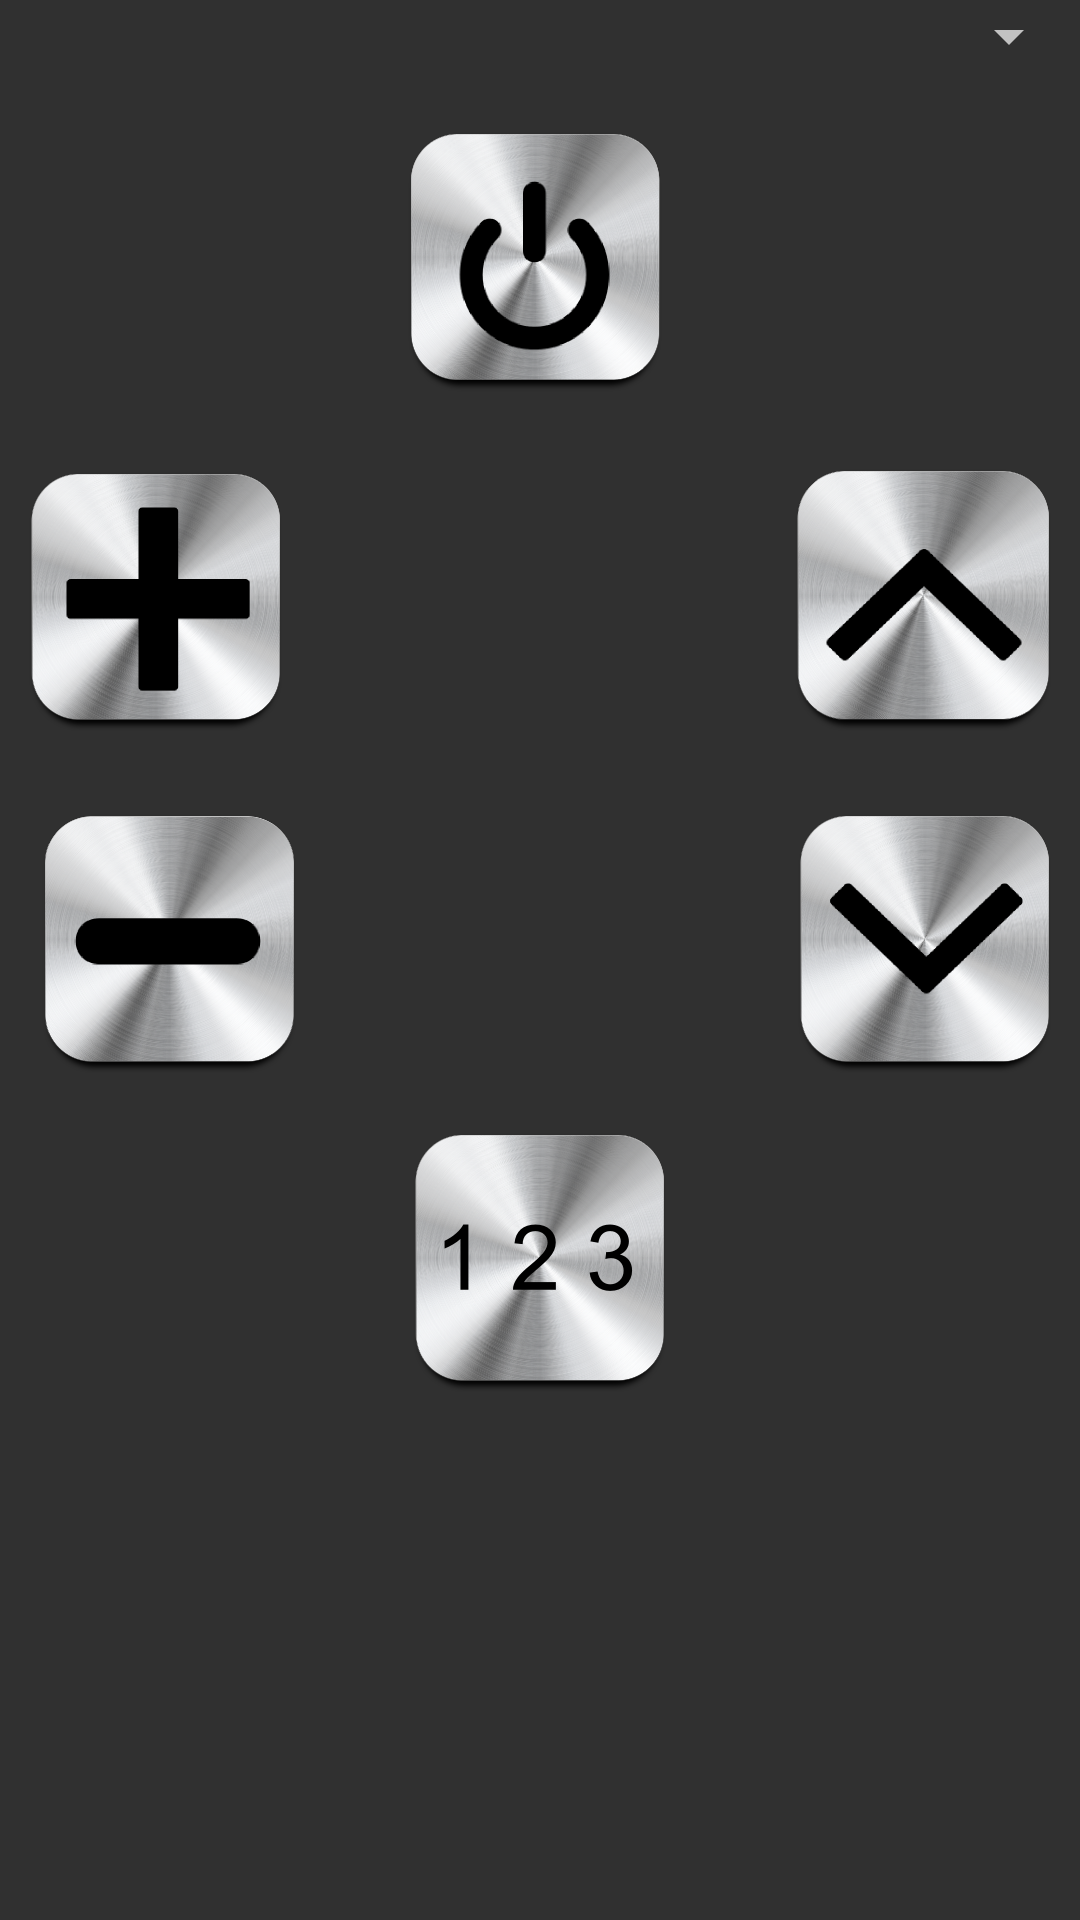

Named icons in this screenshot (1080px×1920px) and their bounding boxes, (x1, y1, x2, y2):
down: (800, 816, 1049, 1066)
minus: (45, 816, 294, 1067)
numbers: (415, 1135, 664, 1385)
plus: (31, 474, 280, 724)
power: (411, 134, 660, 385)
